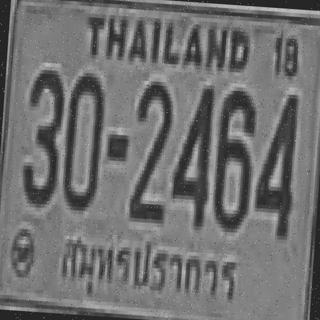N00: (61, 68, 105, 208)
N02: (129, 76, 173, 220)
N03: (19, 65, 65, 205)
N04: (252, 89, 297, 236), (168, 80, 213, 226)
N06: (212, 86, 256, 230)
P57: (55, 228, 243, 312)
